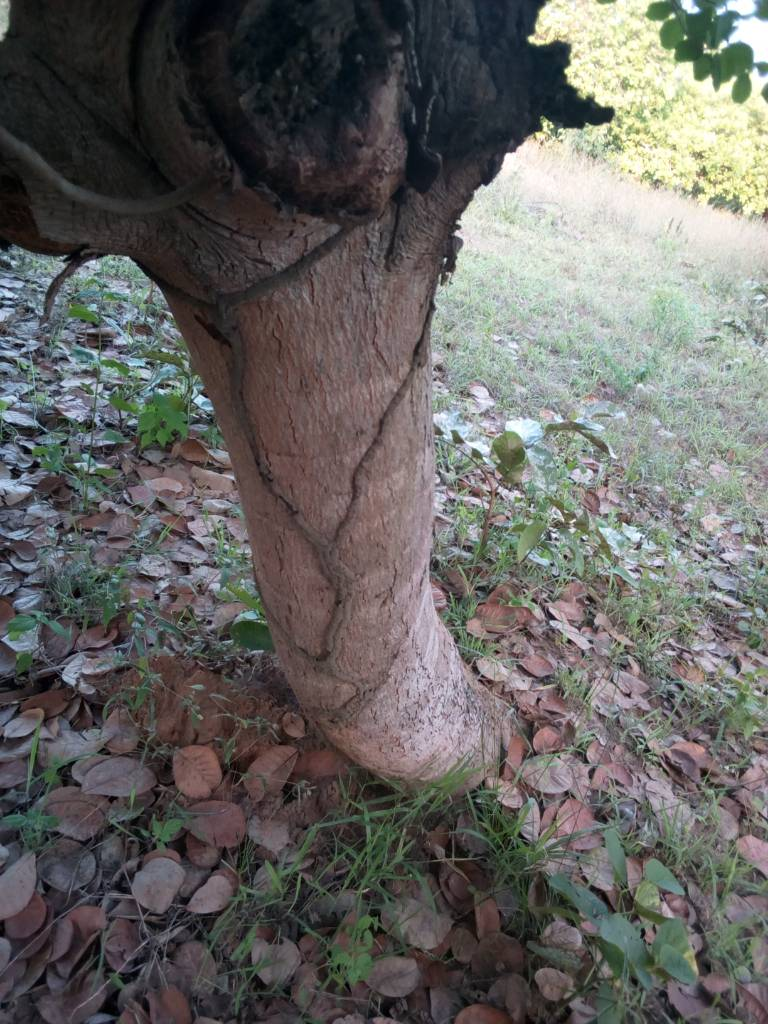Termites: (243, 338, 427, 722)
